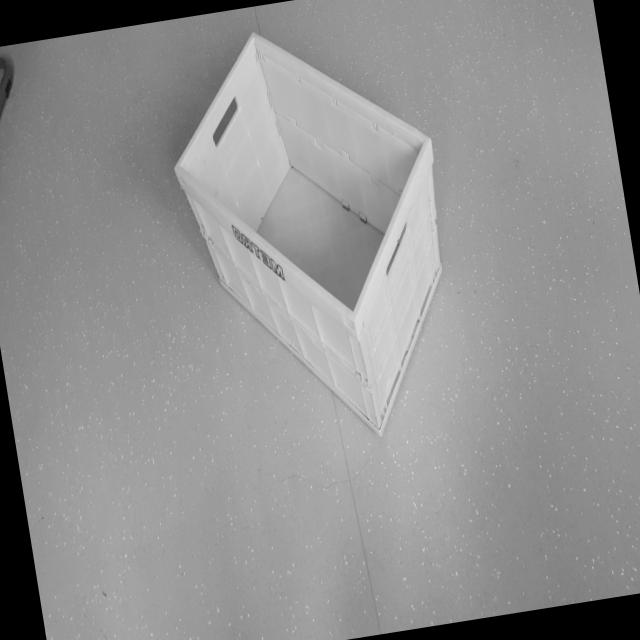box: (147, 0, 484, 477)
